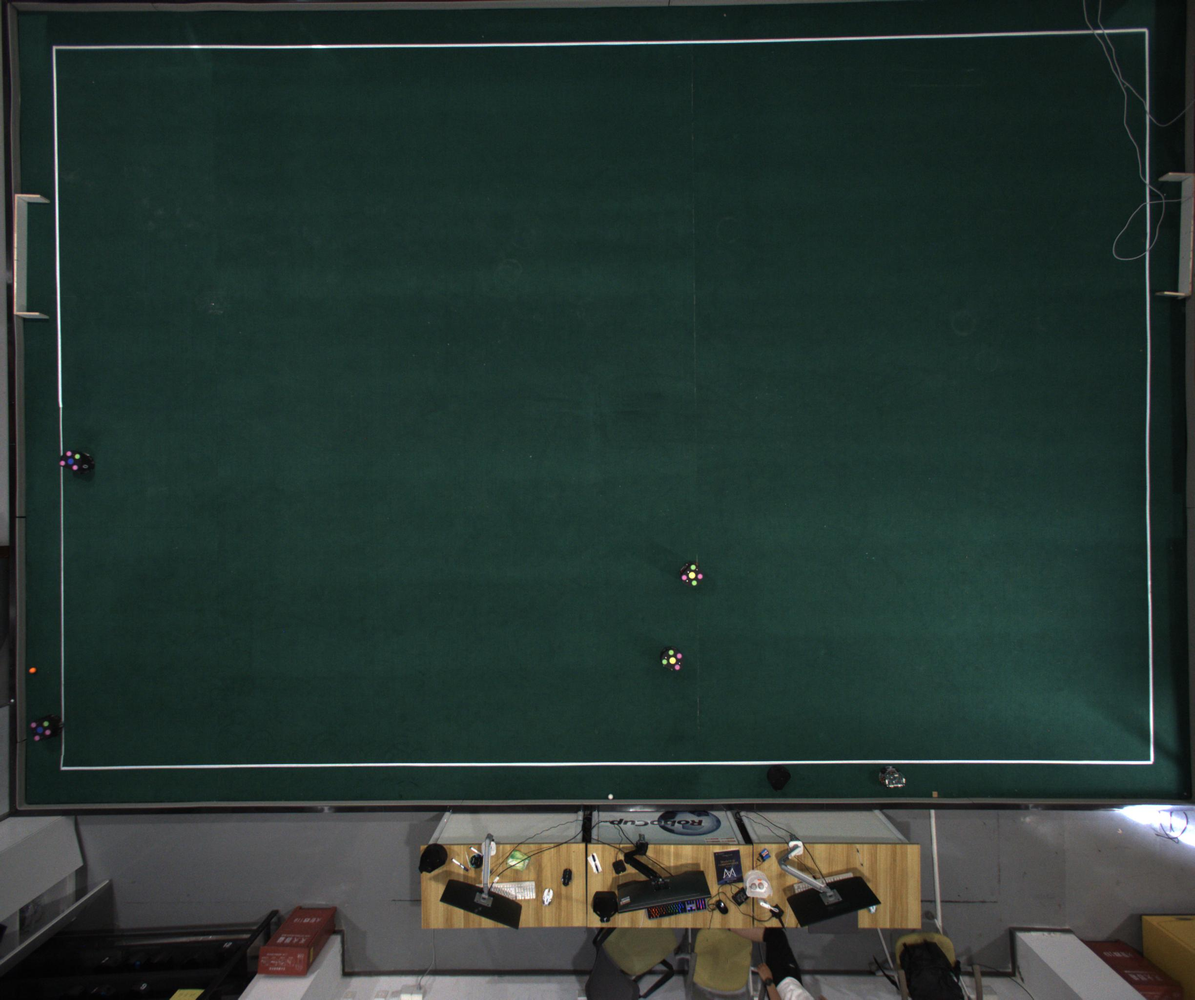ball: (29, 667, 37, 674)
blue_bot: (29, 715, 65, 743), (59, 449, 96, 474)
yellow_bot: (679, 560, 705, 589), (660, 646, 684, 672)
